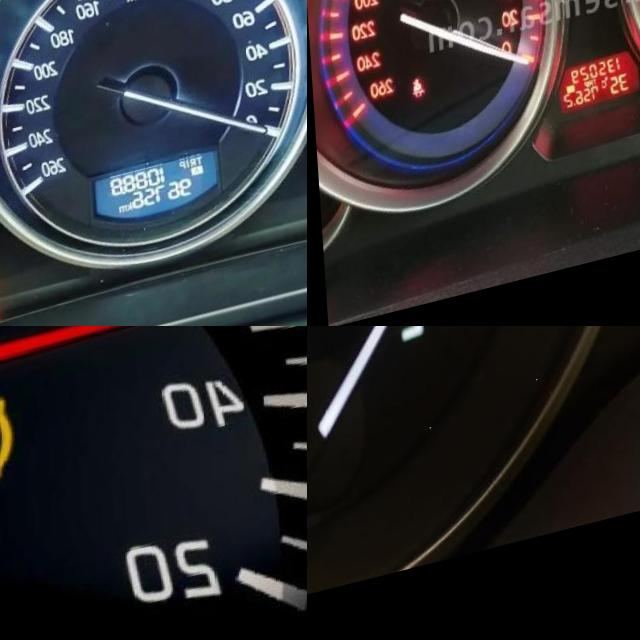Seat Belt: (405, 80, 420, 105)
